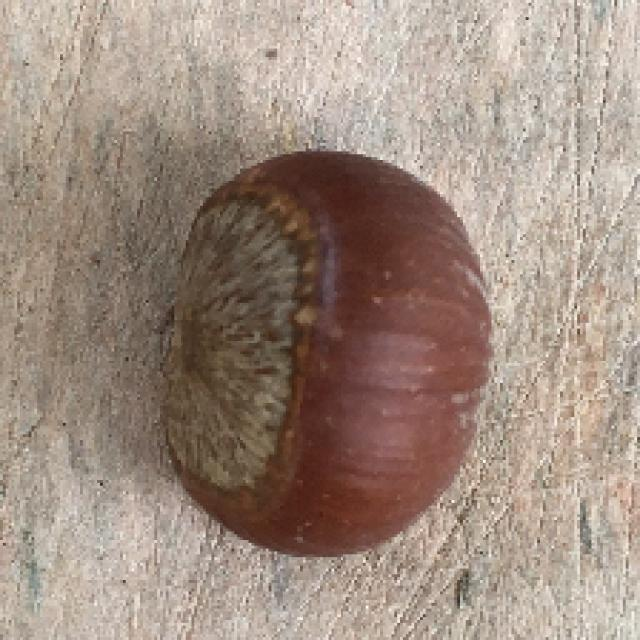qualityHazelnut: (145, 141, 511, 561)
